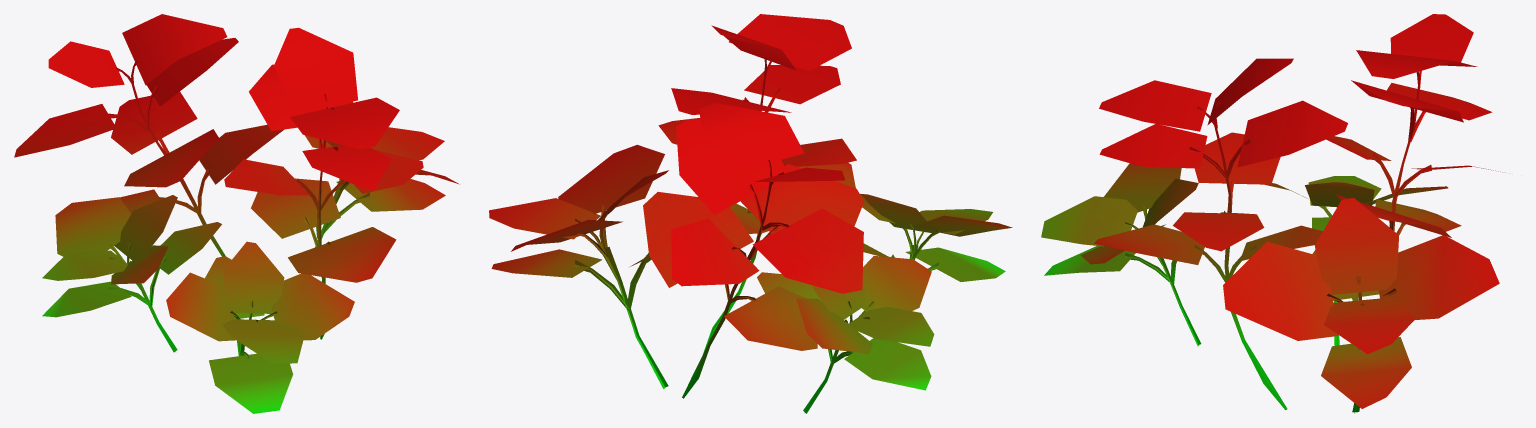
File: Yellow Archangel_LOD2_Var12_wcwmcfvia.fbx
3 views of the same model, side by side, from view 1: azimuth 30°, elevation 25°; view 2: azimuth 150°, elevation 25°; view 3: azimuth 270°, elevation 25° (orthographic). The views are drawn at different scales.
Parts seen in each view (by area): view 1: _dhf1_Var12_LOD2; view 2: _dhf1_Var12_LOD2; view 3: _dhf1_Var12_LOD2.
Boxes of the visible parts, bbox=[...] form: _dhf1_Var12_LOD2: bbox=[14, 14, 459, 413]; _dhf1_Var12_LOD2: bbox=[489, 14, 1012, 413]; _dhf1_Var12_LOD2: bbox=[1041, 14, 1505, 413].
Size of the model in its own units: 9.25 by 6.84 by 8.81.
